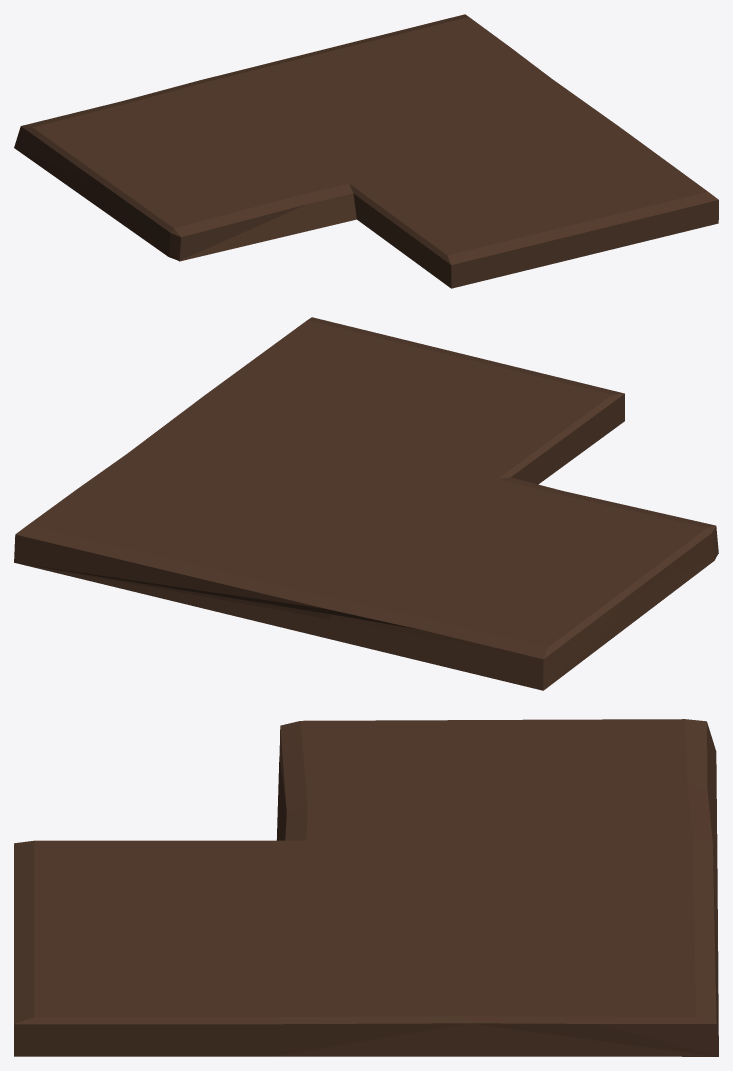
File: Полка угл.fbx
3 views of the same model, one above another, from view 1: azimuth 30°, elevation 25°; view 2: azimuth 150°, elevation 25°; view 3: azimuth 270°, elevation 25° (orthographic). The views are drawn at different scales.
Parts seen in each view (by area): view 1: Cube.017; view 2: Cube.017; view 3: Cube.017.
Boxes of the visible parts, x1,y1,x2,y2 form: Cube.017: [14, 14, 718, 288]; Cube.017: [14, 317, 718, 690]; Cube.017: [14, 719, 718, 1056].
Size of the model in its own units: 328 by 18.79 by 320.
